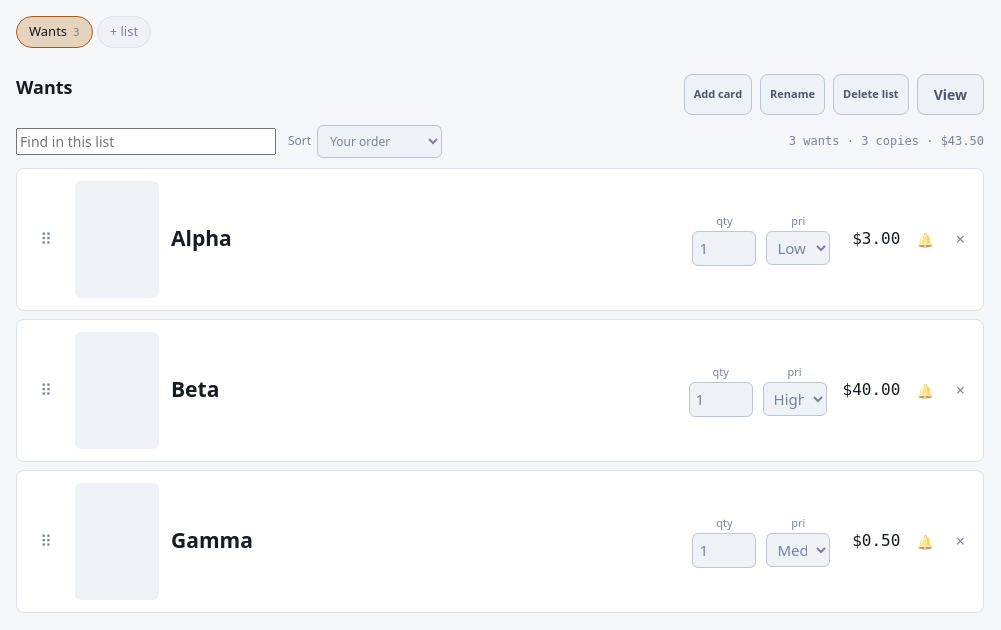
WantListsPage find and sort › finds by name and says how many of the list are showing
The width and height of the screenshot is (1001, 630).
expect the button named "Reorder Alpha" is shown: met, box top-left (29, 217), bottom-right (63, 261)
Type "amm" into the search field named "Find a card" at (146, 141), box top-left (16, 128), bottom-right (276, 154)
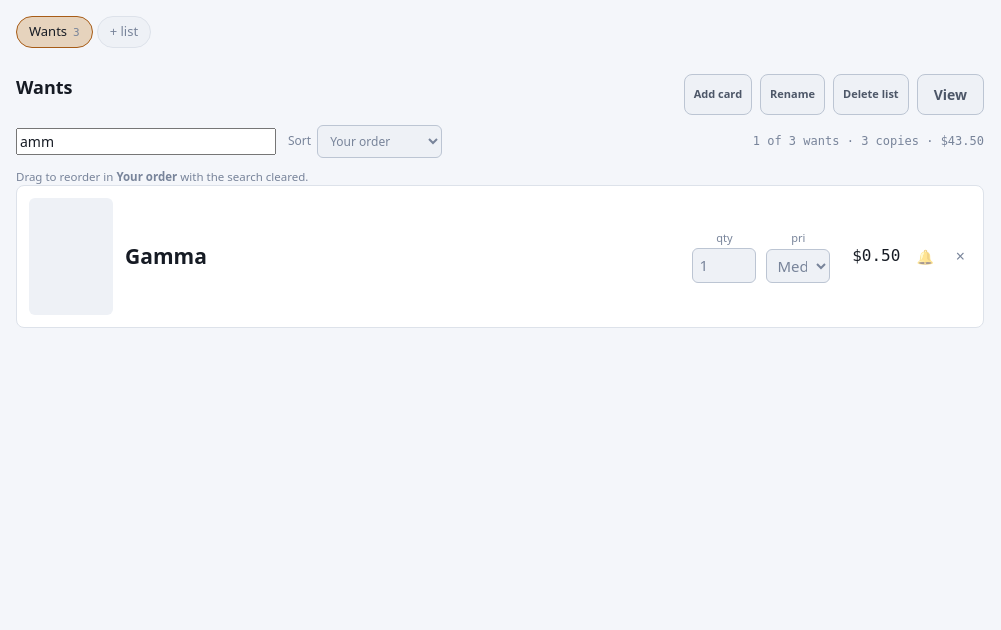
expect the text "1 of 3 wants · 3 copies · $43.50" is shown: met, box top-left (753, 134), bottom-right (984, 148)
